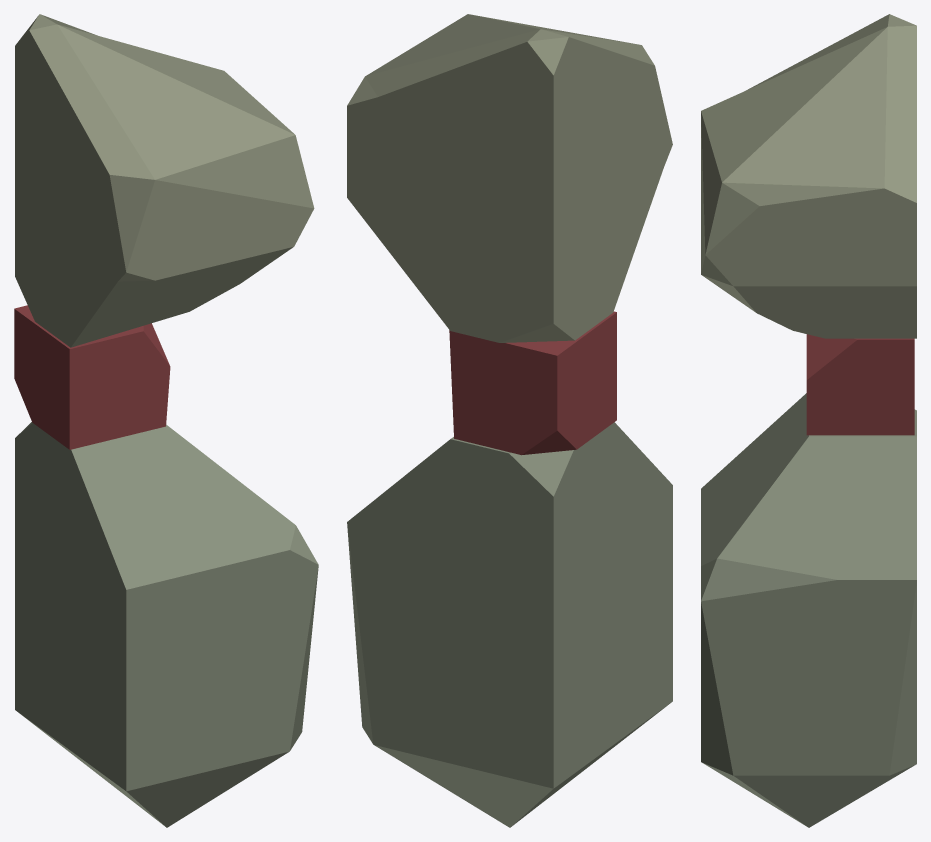
Rendered from railing_corner_conv_1.fbx.
The picture shows the model from 3 angles, left to right: view 1: azimuth 30°, elevation 25°; view 2: azimuth 150°, elevation 25°; view 3: azimuth 270°, elevation 25°; orthographic projection. The views are drawn at different scales.
Visible parts, largest first — view 1: railing_corner_conv_1; view 2: railing_corner_conv_1; view 3: railing_corner_conv_1.
Part boxes in pixels (<box>): railing_corner_conv_1: <box>14,14,318,827</box>; railing_corner_conv_1: <box>347,14,672,827</box>; railing_corner_conv_1: <box>701,14,916,827</box>.
Size of the model in its own units: 50.58 by 196 by 50.
